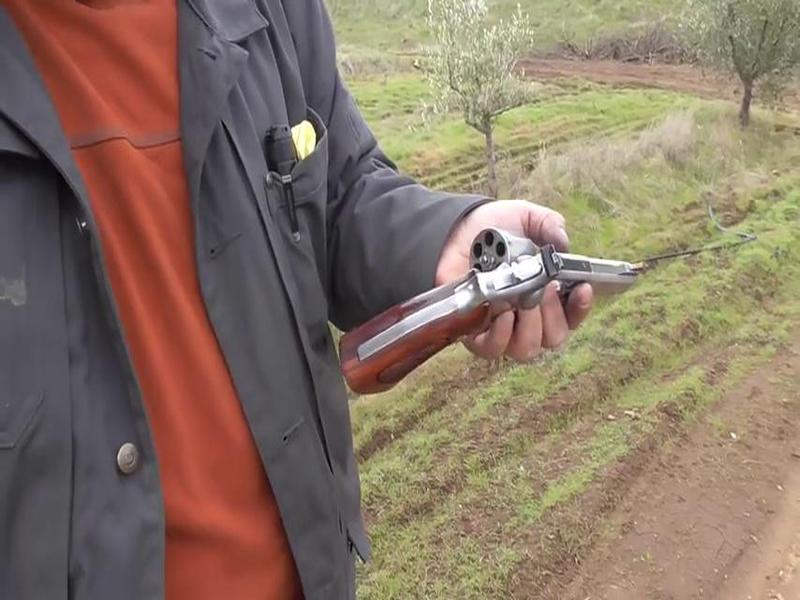Revolver: (322, 196, 673, 456)
